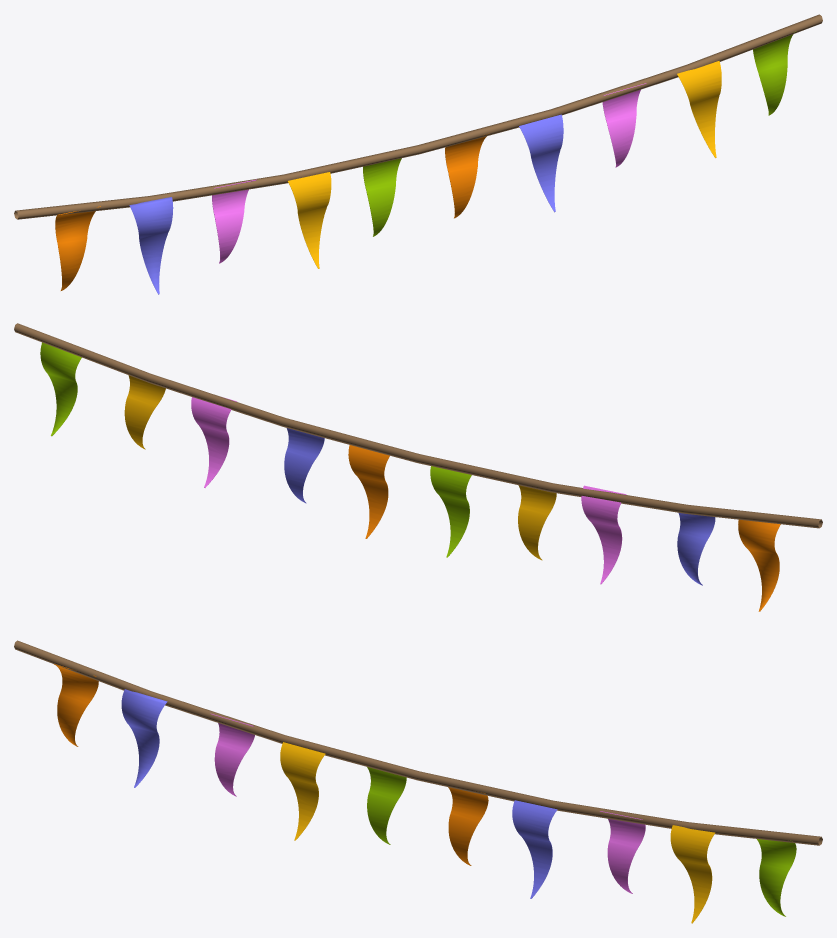
Rendered from bayrak2.fbx.
3 views of the same model, one above another, from view 1: azimuth 30°, elevation 25°; view 2: azimuth 150°, elevation 25°; view 3: azimuth 330°, elevation 25° (orthographic).
Parts seen in each view (by area): view 1: Cylinder_021; view 2: Cylinder_021; view 3: Cylinder_021.
Boxes of the visible parts, bbox=[...] form: Cylinder_021: bbox=[14, 14, 822, 294]; Cylinder_021: bbox=[14, 323, 822, 611]; Cylinder_021: bbox=[14, 640, 822, 923].
Bounding box in the file's own units: 1410 × 204 × 62.64.
